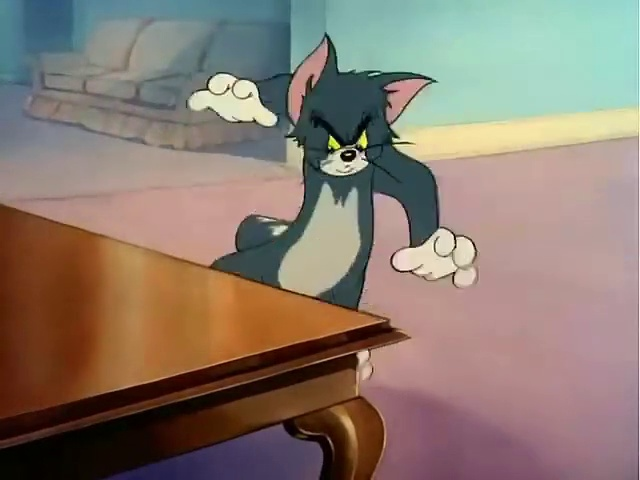tom: (161, 30, 499, 333)
